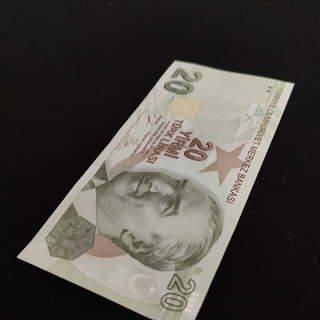20TLFront: (16, 59, 294, 320)
